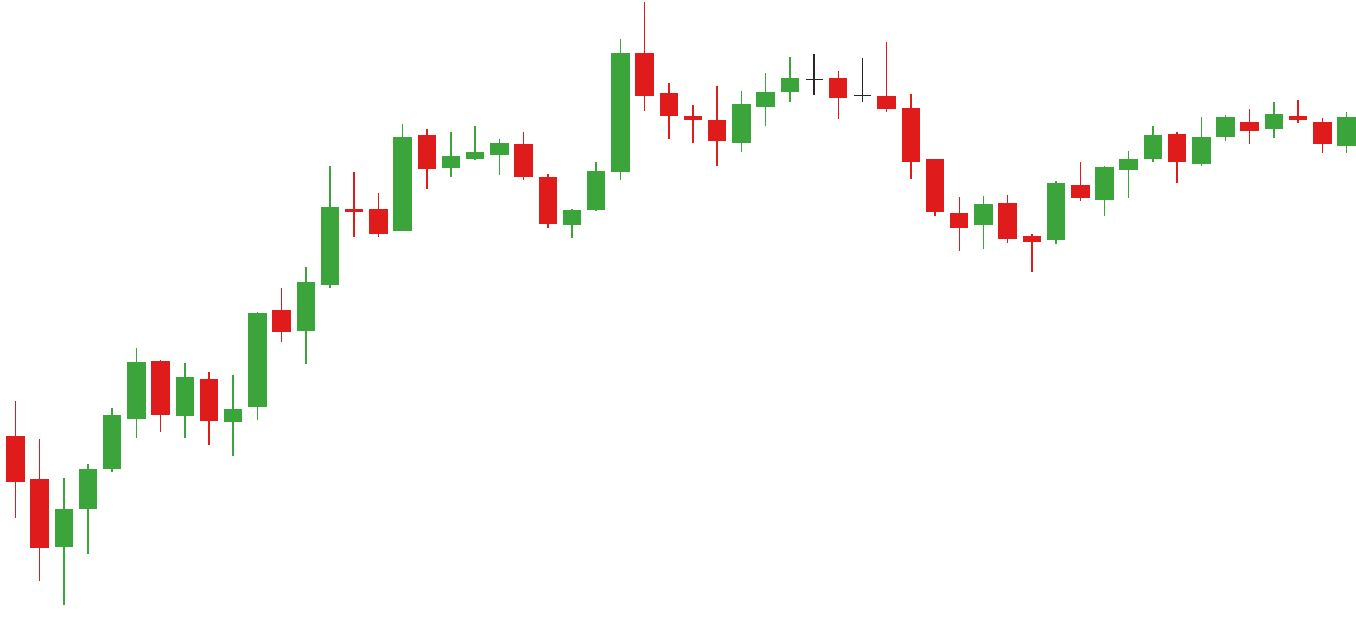buy: (347, 151, 584, 242)
